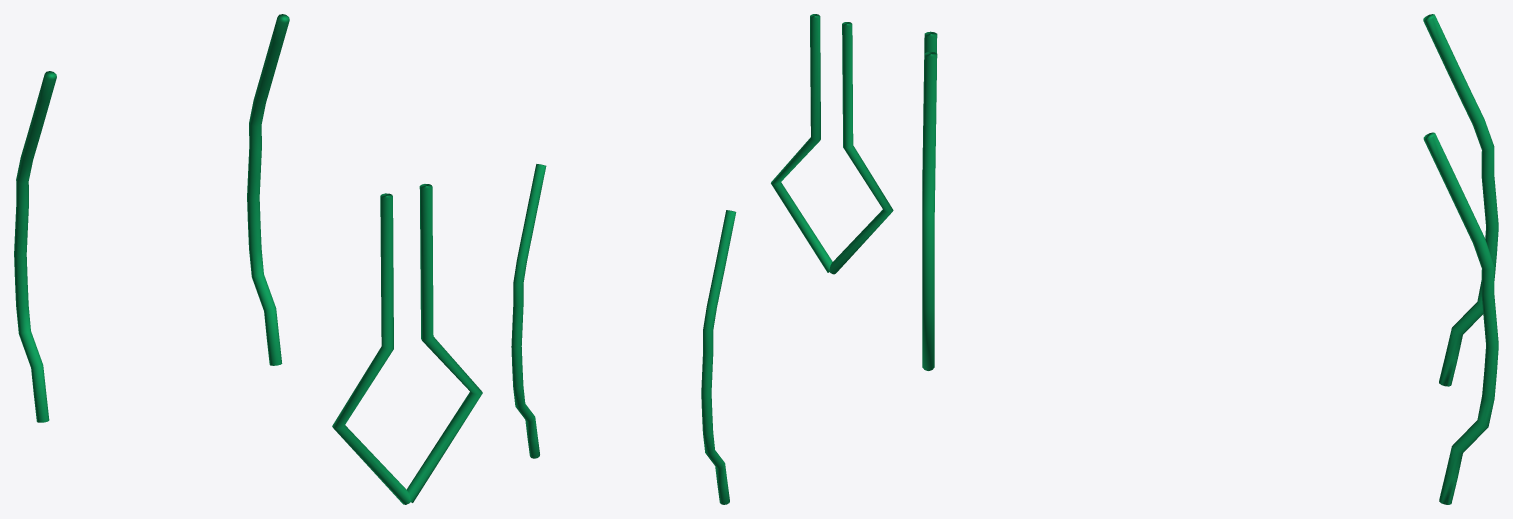
Rendered from Sivra-Quell-authored-details.obj.
The picture shows the model from 3 angles, left to right: view 1: azimuth 30°, elevation 25°; view 2: azimuth 150°, elevation 25°; view 3: azimuth 270°, elevation 25°; orthographic projection. The views are drawn at different scales.
Bounding box in the file's own units: 0.1236 × 0.1856 × 0.2428.
